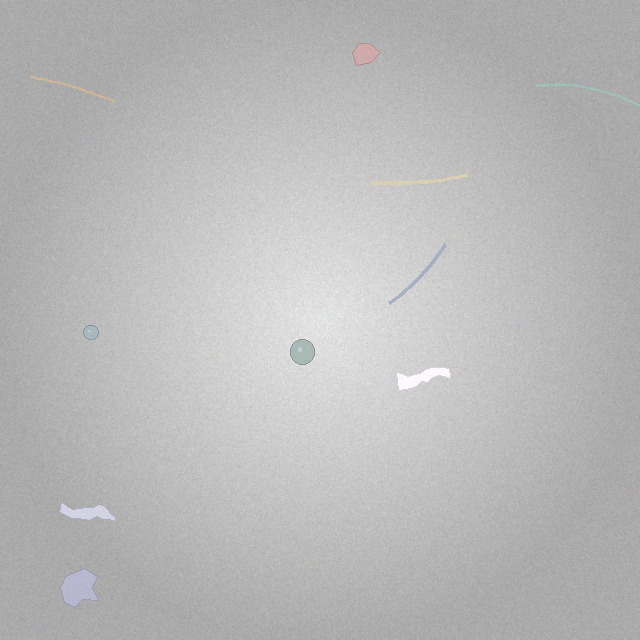fiber: (386, 241, 449, 307), (533, 81, 639, 111), (27, 73, 117, 105), (367, 171, 472, 188)
film: (397, 367, 450, 390), (59, 502, 116, 521)
fragment: (60, 568, 99, 608), (353, 43, 380, 66)
pellet: (290, 340, 315, 364), (84, 325, 98, 340)
